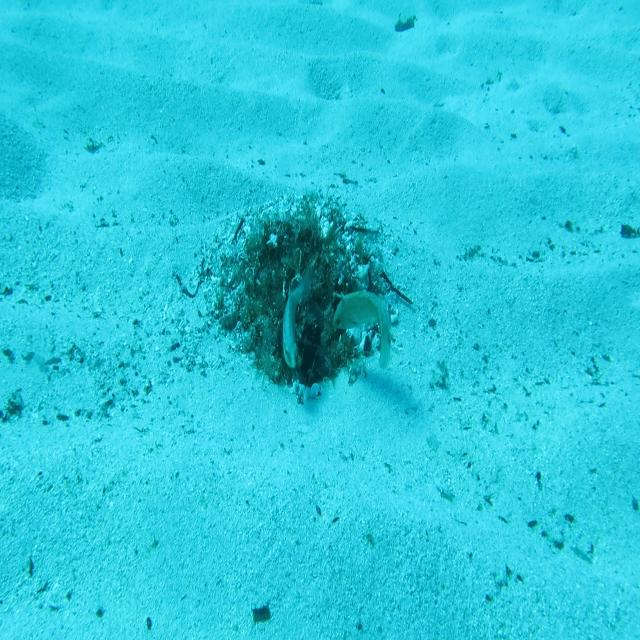DAN_CIRC: (332, 285, 396, 375)
core_nest: (278, 227, 326, 274)
female: (281, 267, 315, 371)
nest: (190, 166, 412, 420)
vegetation: (394, 13, 421, 33), (618, 221, 639, 239), (252, 608, 272, 626)
